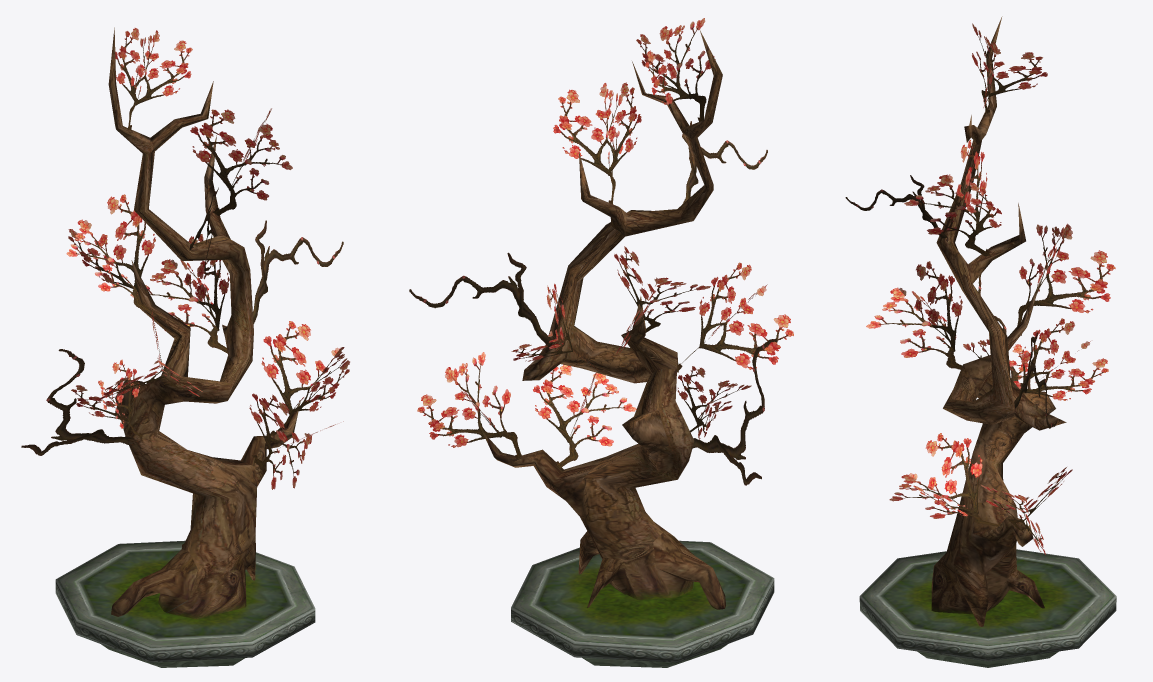
File: mei_hua_shu_001.FBX
The picture shows the model from 3 angles, left to right: view 1: azimuth 30°, elevation 25°; view 2: azimuth 150°, elevation 25°; view 3: azimuth 270°, elevation 25°; orthographic projection. The views are drawn at different scales.
Visible parts, largest first — view 1: mei_hua_shu_001; view 2: mei_hua_shu_001; view 3: mei_hua_shu_001.
Boxes of the visible parts, bbox=[...] form: mei_hua_shu_001: bbox=[21, 27, 349, 667]; mei_hua_shu_001: bbox=[409, 18, 793, 667]; mei_hua_shu_001: bbox=[845, 16, 1116, 667].
Size of the model in its own units: 537 by 917 by 420.
